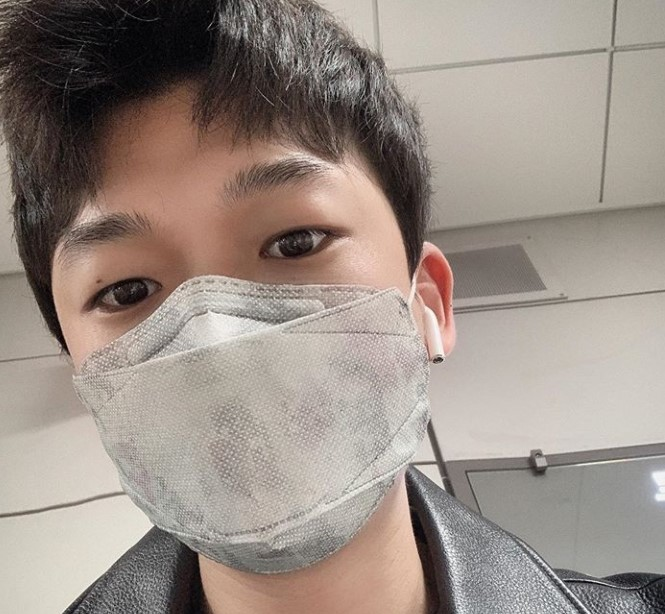face_with_mask: (37, 54, 447, 576)
